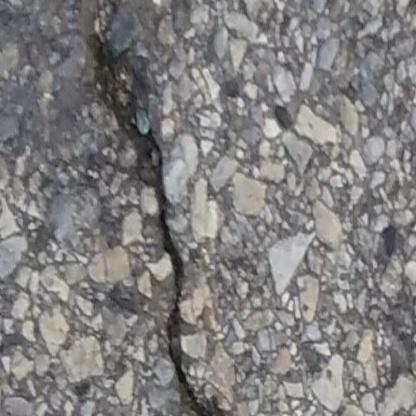Cracks: (86, 0, 236, 416)
